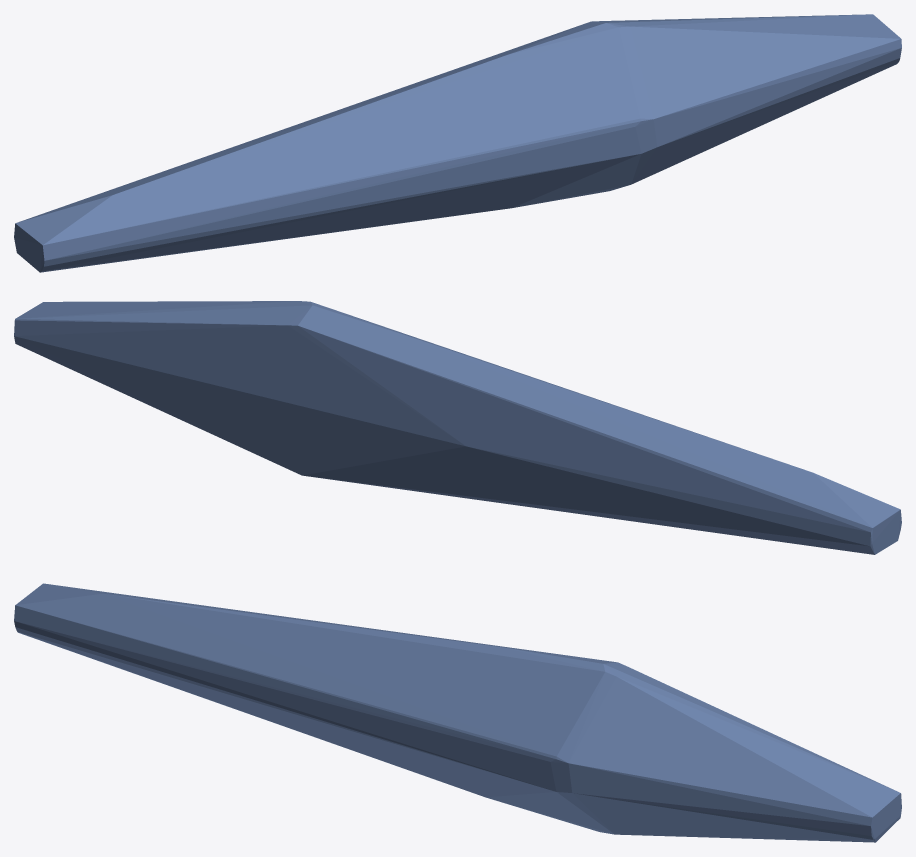
File: handTool_ratchet_a01.glb
3 renders of one model, top to bottom at view 1: azimuth 30°, elevation 25°; view 2: azimuth 150°, elevation 25°; view 3: azimuth 330°, elevation 25°, orthographic.
Parts seen in each view (by area): view 1: geometry_0; view 2: geometry_0; view 3: geometry_0.
Boxes of the visible parts, x1,y1,x2,y2 form: geometry_0: (14,14,901,272); geometry_0: (14,301,901,554); geometry_0: (14,583,901,842).
Bounding box in the file's own units: 0.48 × 0.0886 × 0.0602.
